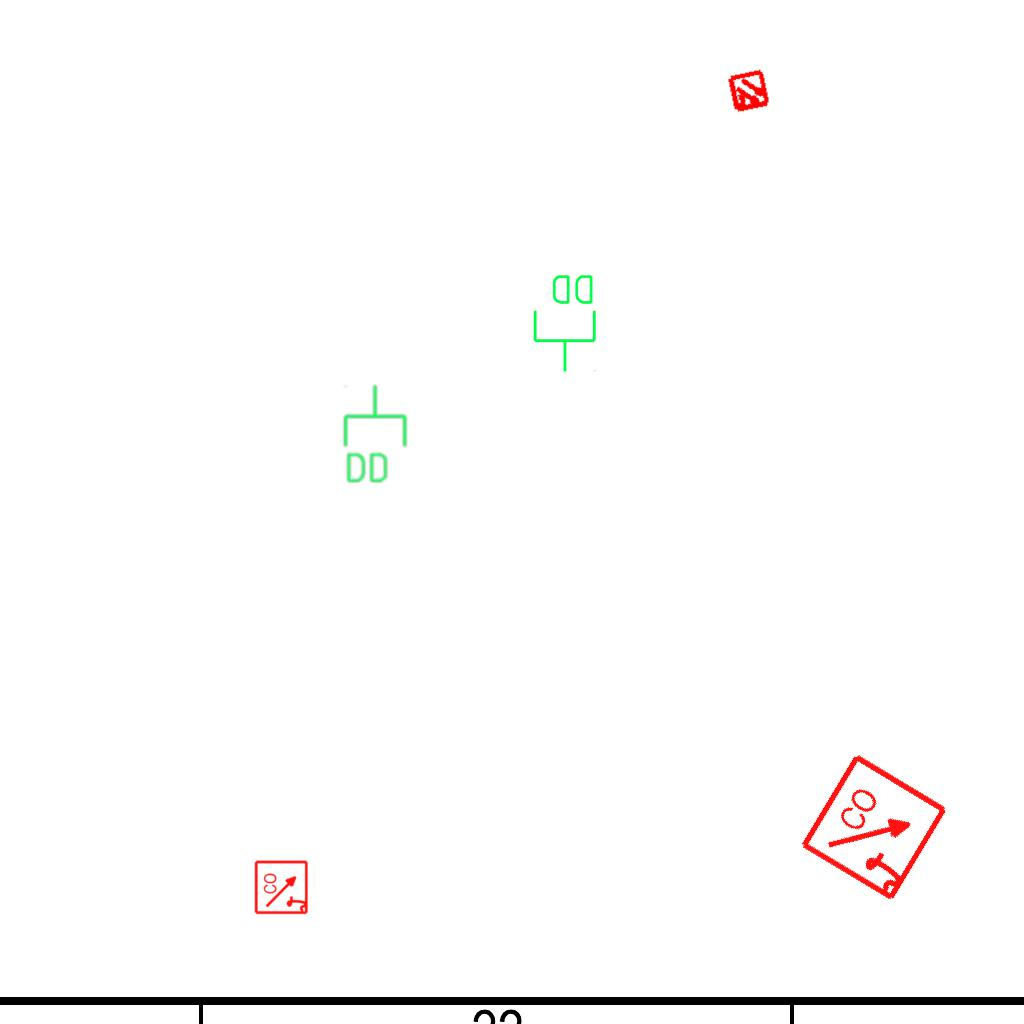Datenanschluss_zweifach: (531, 271, 600, 374), (340, 383, 409, 486)
OT_Multisensormelder_(Kombination_RMO_WMD): (715, 58, 783, 126)
ROA_Rauchmelder_optisch_mit_Signalgeber_(Sockelsirene): (797, 749, 954, 906), (254, 859, 310, 915)
